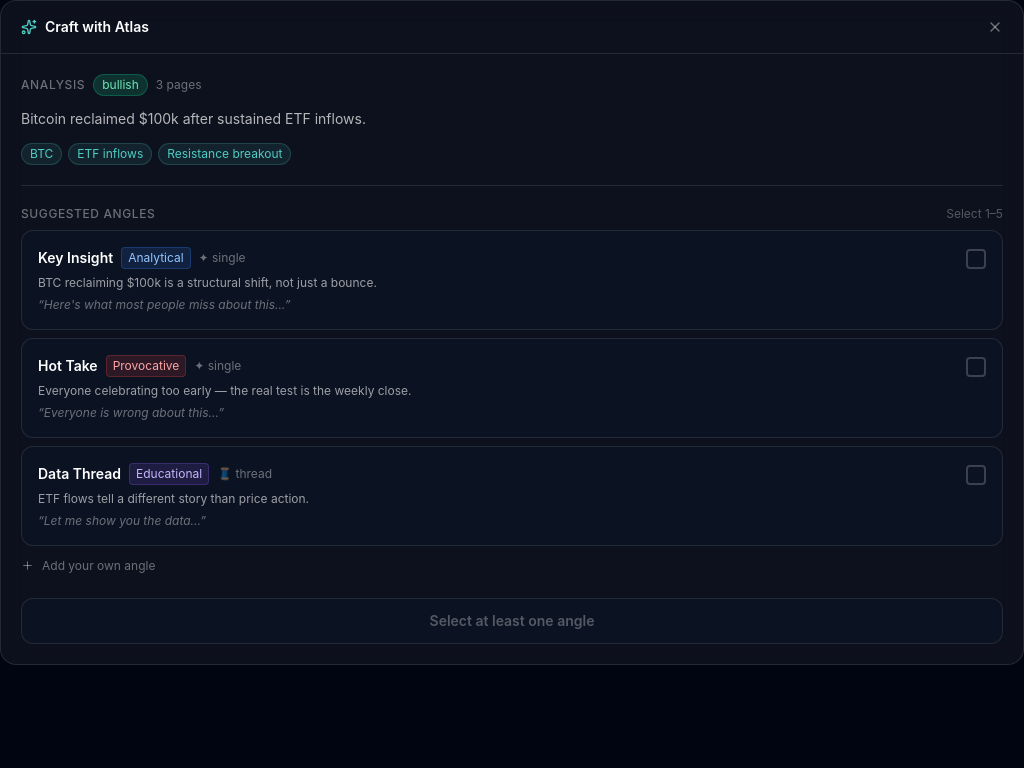
Test: CraftingAdvisor › custom angle input › hides the custom input on Escape
Click the button "Add your own angle".
click(99, 565)  # box [21,554,1003,578]
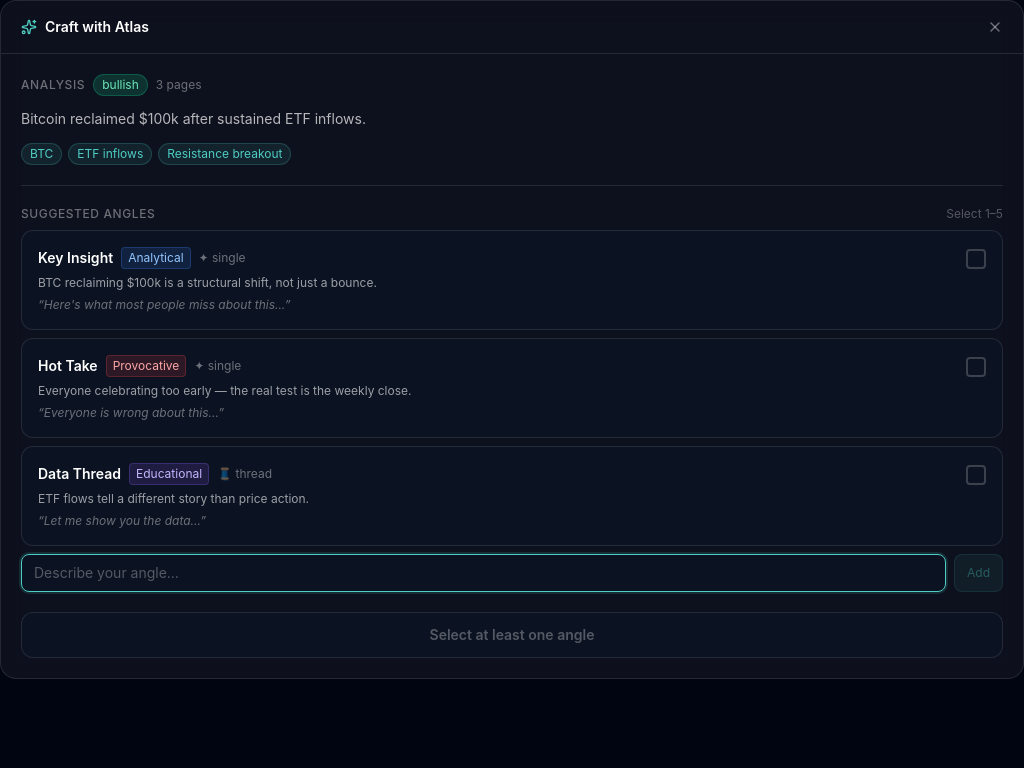
Press Escape in the field named "Custom angle description", box [21,554,946,592]
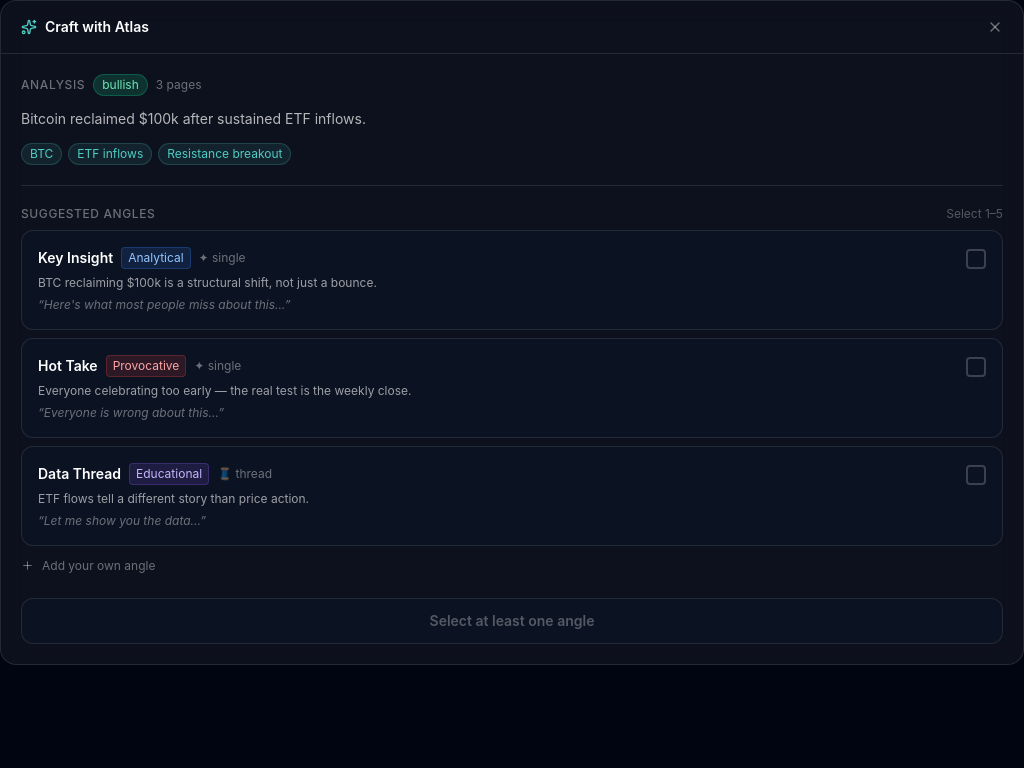
Check: the button "Add your own angle" is shown, box [21,554,1003,578]
